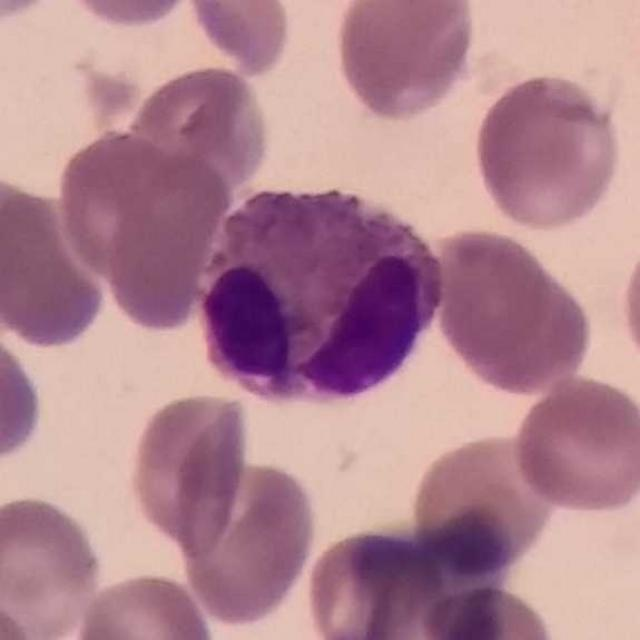Eosinophil: (185, 166, 453, 423)
RBC: (469, 68, 626, 234), (174, 454, 320, 629), (428, 224, 576, 395), (406, 426, 558, 581), (110, 147, 234, 331), (124, 388, 252, 556), (122, 62, 274, 194), (510, 370, 640, 518), (0, 178, 108, 352), (57, 124, 191, 264), (330, 0, 480, 122), (302, 521, 438, 640), (0, 489, 107, 640), (71, 569, 218, 640), (182, 0, 295, 80), (422, 582, 560, 640), (0, 168, 50, 326), (0, 316, 47, 473), (56, 0, 199, 31), (616, 223, 640, 387), (0, 0, 68, 30), (0, 591, 39, 640)
